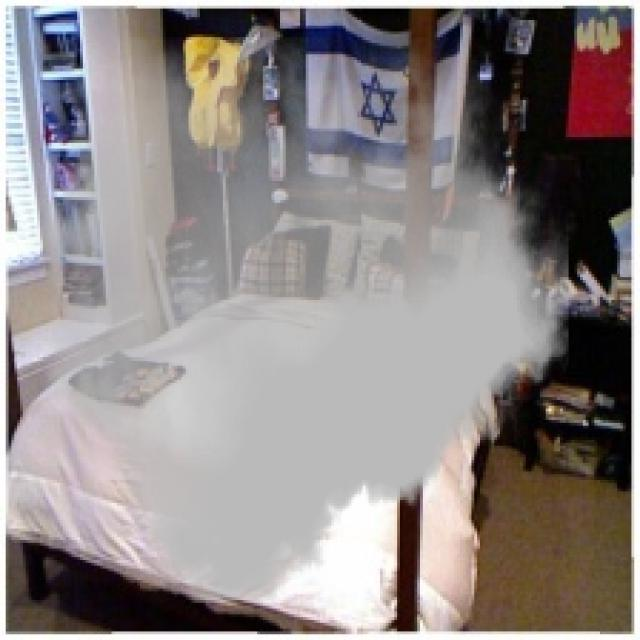smoke: (37, 37, 569, 603)
